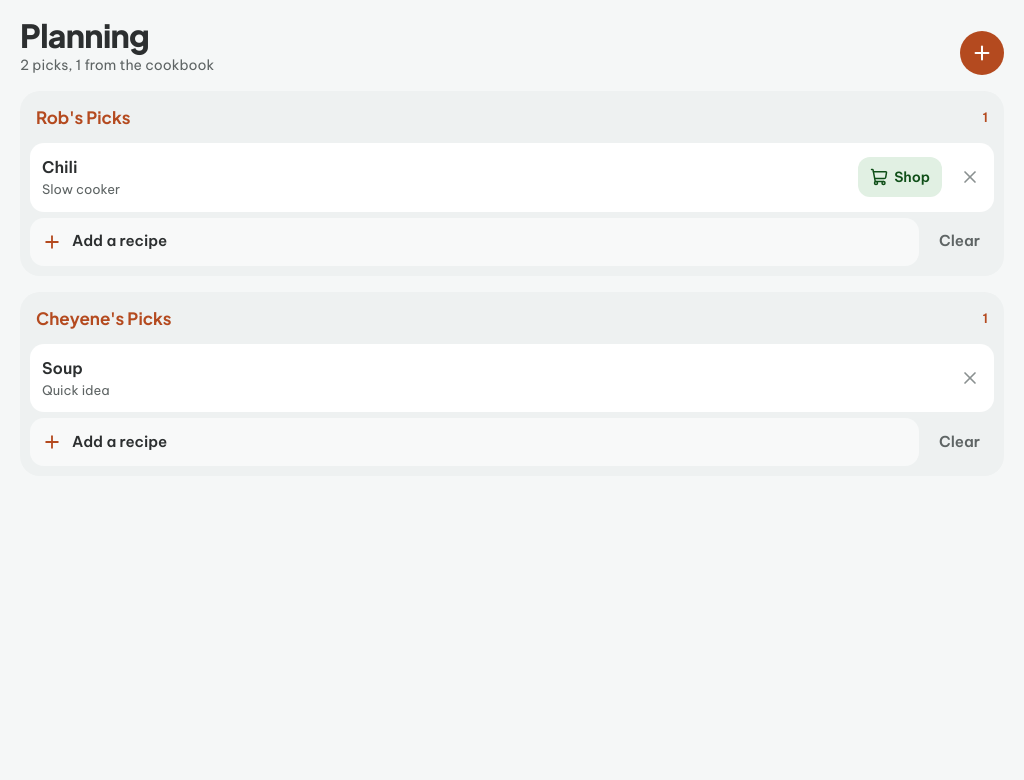
it: PlanningPage › Shop checks the kitchen and puts the missing ingredients on the grocery list
Check: the text "Chili" is shown, box [42,157,78,177]
Click the button with aria-label "Add missing ingredients for Chili to the grocery list": [900, 177] box [858,157,942,197]
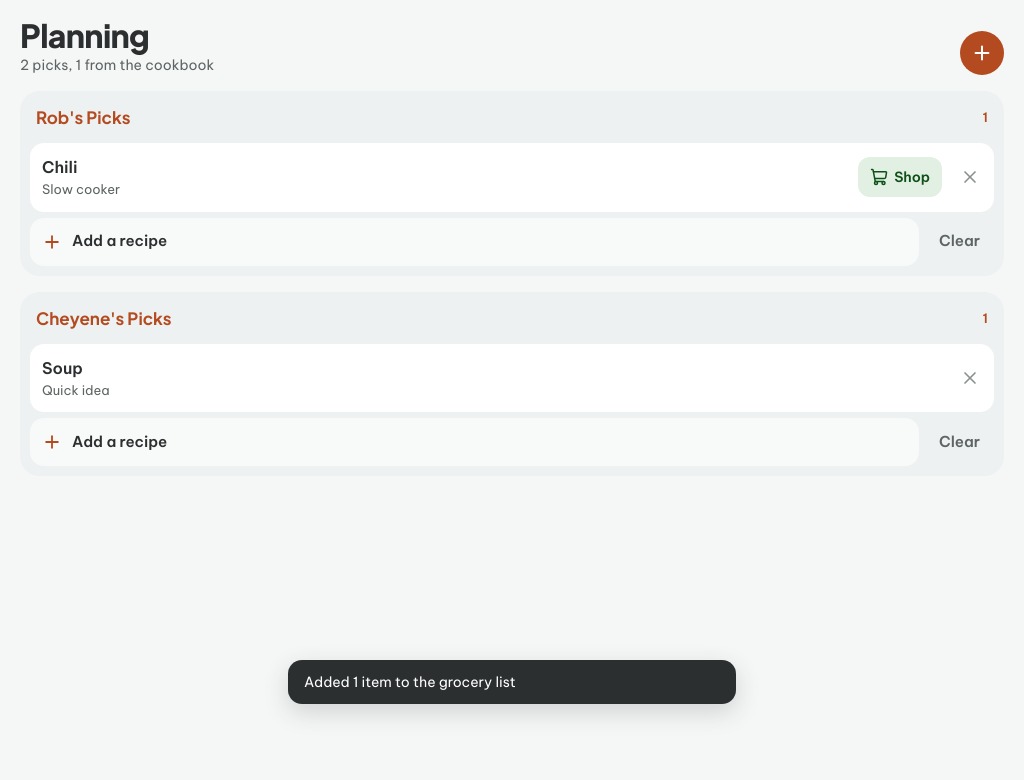
Check: the text "Added 1 item to the grocery list" is shown, box [304,673,516,691]
